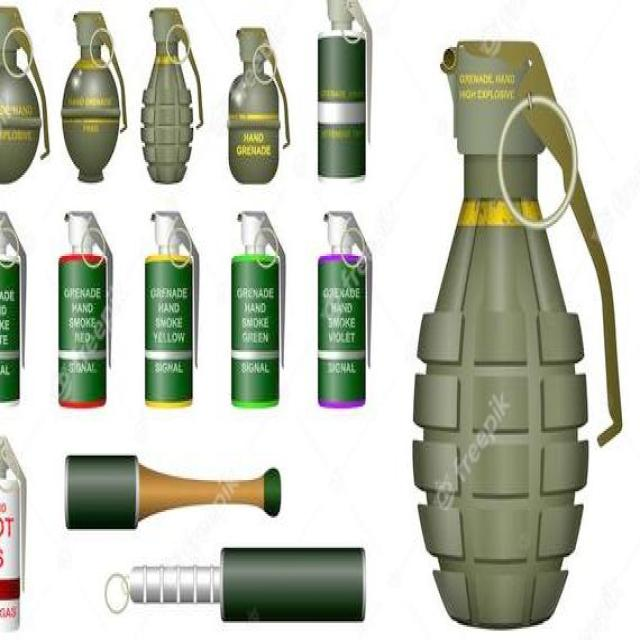grenade: (411, 48, 623, 630), (316, 204, 375, 419), (218, 545, 368, 628), (143, 208, 201, 415), (62, 11, 129, 188), (57, 208, 112, 415), (140, 11, 202, 190), (315, 1, 376, 182), (233, 210, 288, 407), (227, 28, 291, 190), (1, 8, 50, 187), (64, 451, 142, 535), (1, 206, 31, 407), (1, 432, 27, 637)
